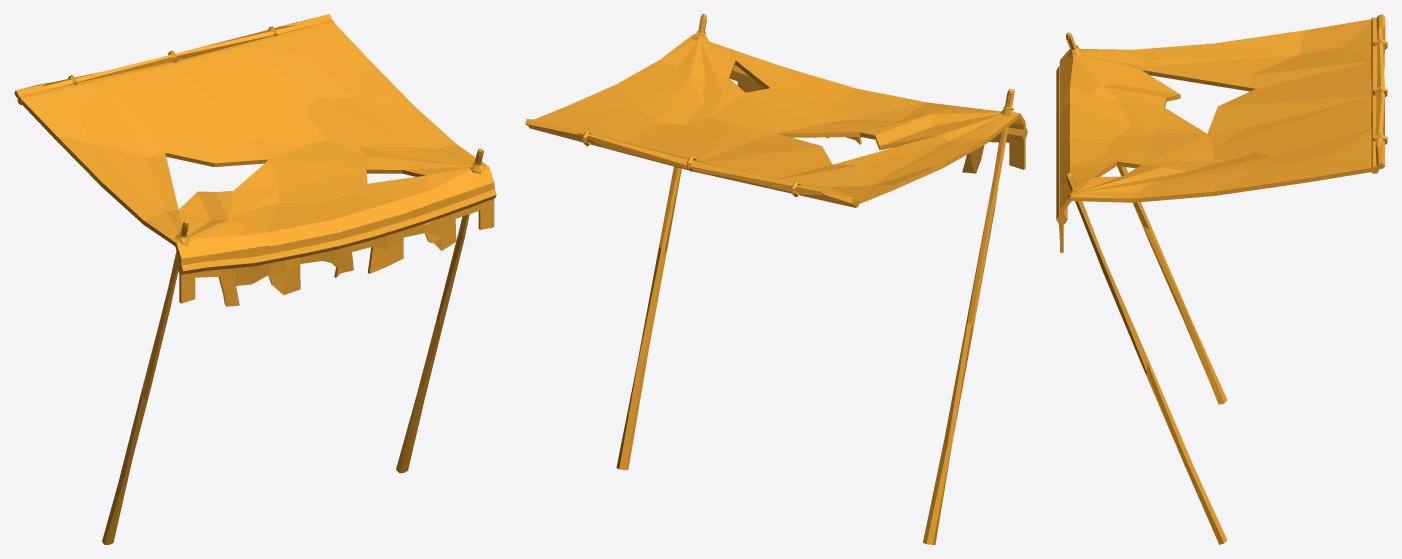
The model's file is SM_Tent_Porch_Narrow_Striped_Damaged_Fantasy.fbx.
The picture shows the model from 3 angles, left to right: view 1: azimuth 30°, elevation 25°; view 2: azimuth 150°, elevation 25°; view 3: azimuth 270°, elevation 25°; orthographic projection. The views are drawn at different scales.
Parts seen in each view (by area): view 1: tent-porch-narrow-striped-damaged-fantasy; view 2: tent-porch-narrow-striped-damaged-fantasy; view 3: tent-porch-narrow-striped-damaged-fantasy.
Boxes of the visible parts, x1,y1,x2,y2 form: tent-porch-narrow-striped-damaged-fantasy: [14, 14, 496, 544]; tent-porch-narrow-striped-damaged-fantasy: [525, 14, 1027, 544]; tent-porch-narrow-striped-damaged-fantasy: [1056, 14, 1387, 544].
Bounding box in the file's own units: 2.36 × 2.86 × 2.22.
